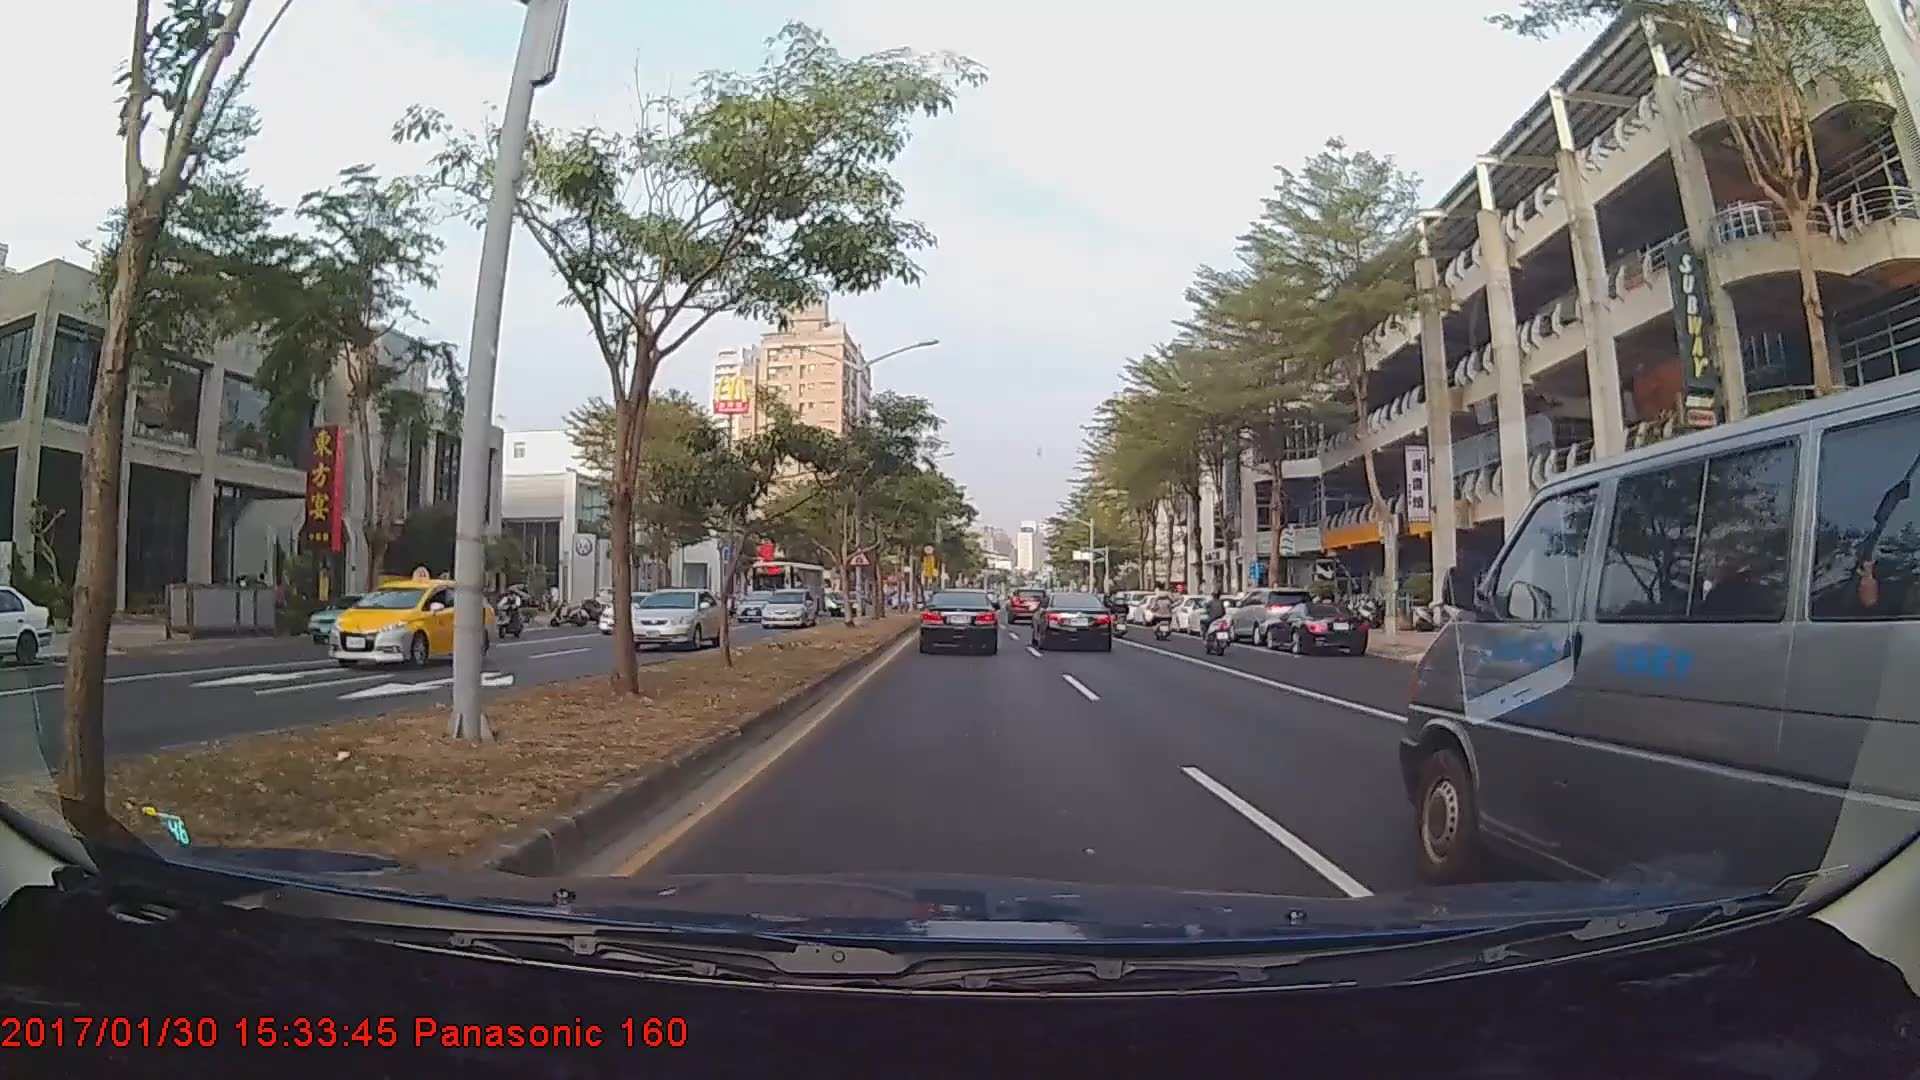rider: (1198, 588, 1236, 659), (1146, 586, 1177, 644), (1109, 587, 1131, 637)
vehicle: (1405, 399, 1910, 901), (326, 572, 496, 671), (627, 587, 725, 651), (919, 588, 1000, 655), (1230, 587, 1318, 648), (1265, 602, 1368, 652), (746, 559, 826, 622), (305, 591, 401, 642), (1034, 591, 1114, 652), (1186, 591, 1246, 634), (757, 587, 815, 630), (1005, 587, 1048, 624), (733, 589, 780, 622), (824, 588, 862, 616)
